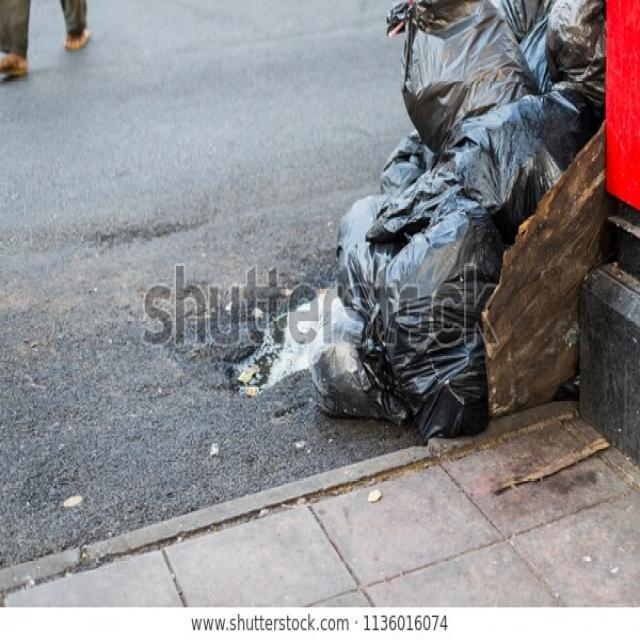garbage: (385, 1, 603, 126), (348, 220, 477, 424), (376, 129, 518, 224)
